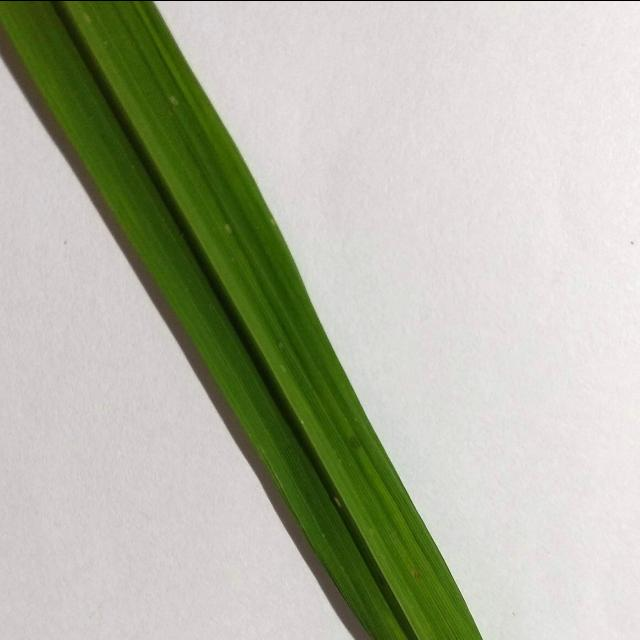healthy: (0, 0, 495, 640)
